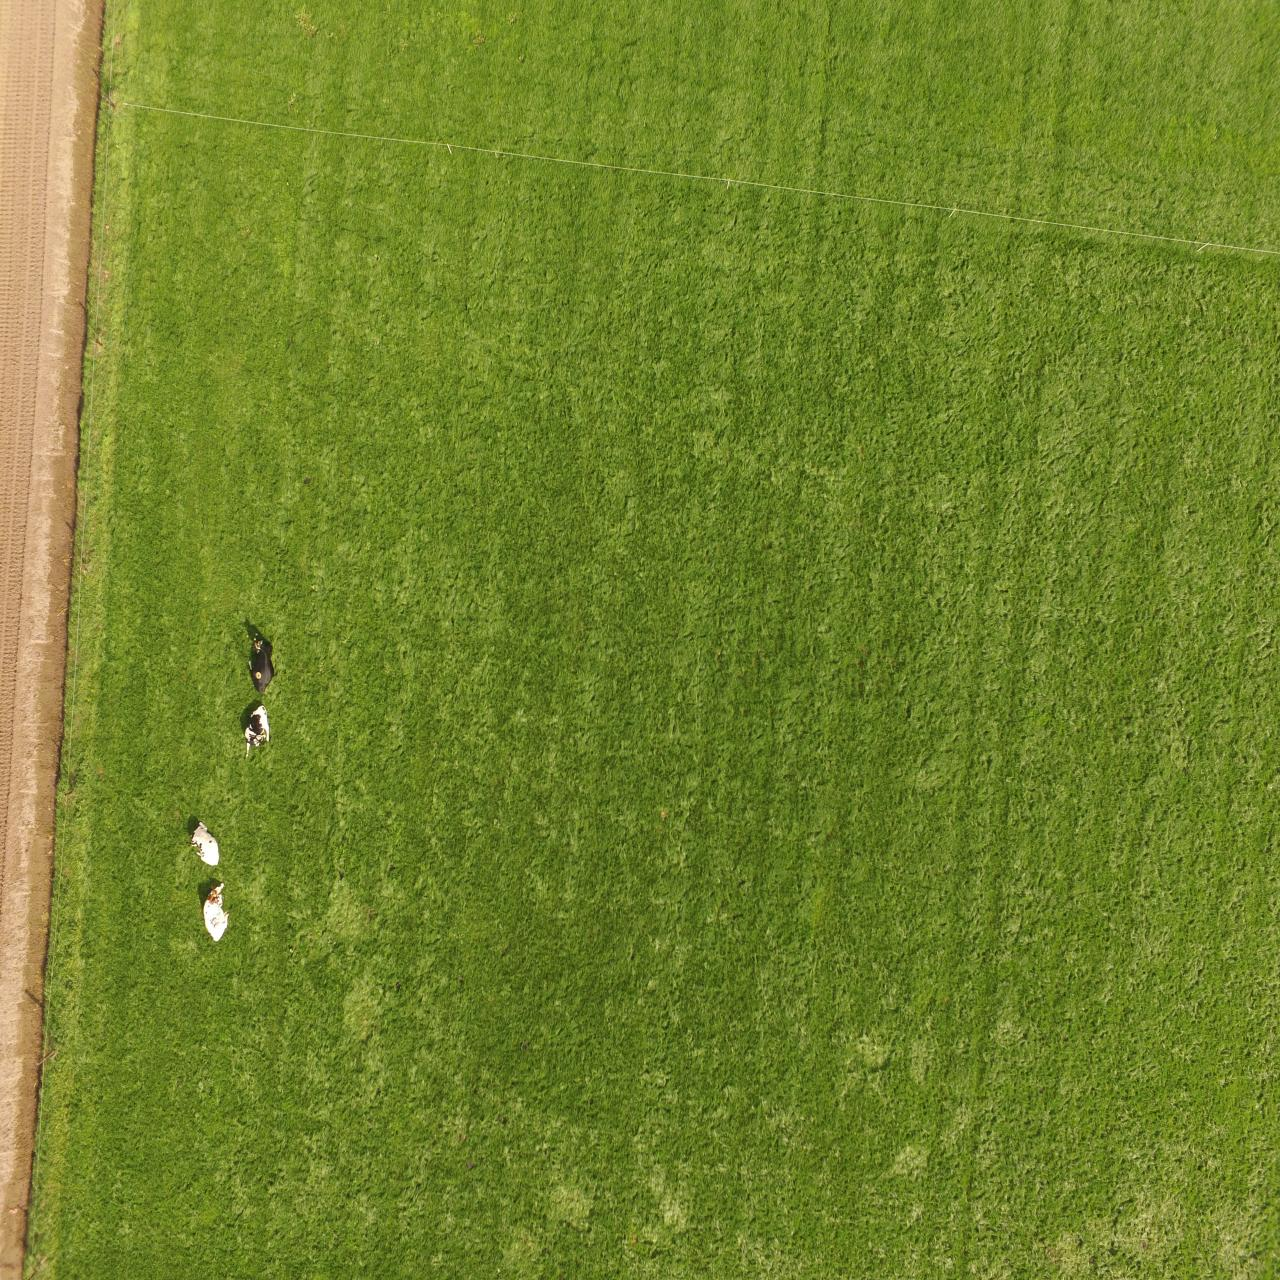cow: (202, 880, 230, 942), (248, 632, 274, 696), (243, 702, 271, 760), (189, 821, 219, 866)
